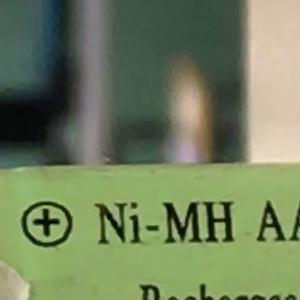NI-MH: (85, 192, 239, 254)
